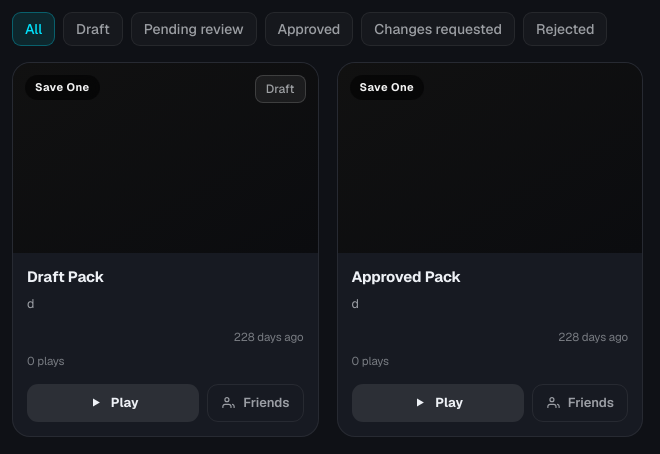
it: AuthorPackList › status filter chips (own profile only) › shows every pack again after switching back to All
Check: the heading "Draft Pack" is shown, box [27, 267, 104, 286]
Click the button "Draft" at (93, 29), box [63, 12, 123, 46]
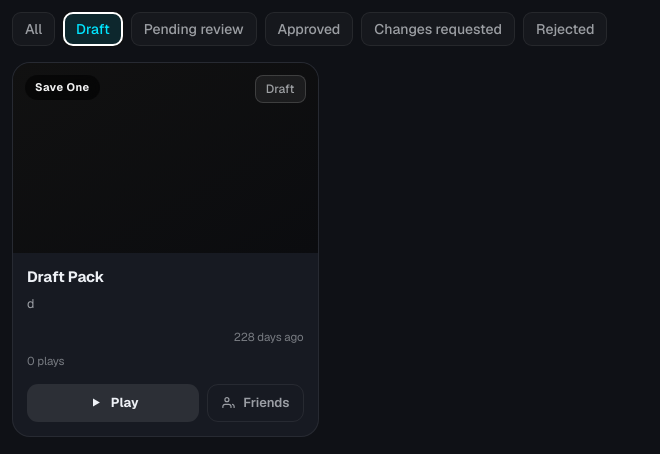
Check: the link "Approved Pack" is gone
Click the button "All" at (34, 29), box [12, 12, 55, 46]
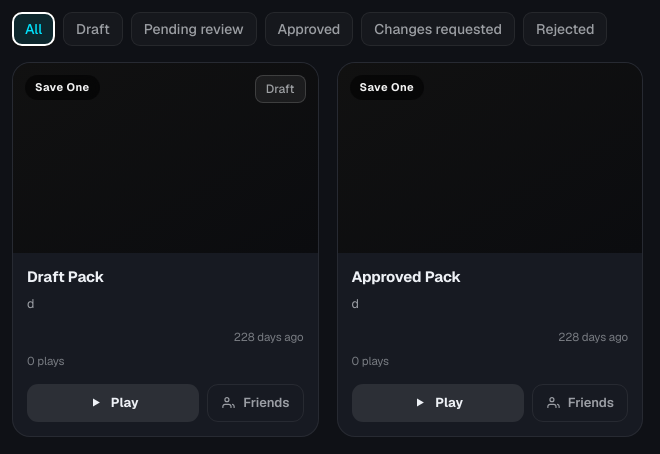
Check: the heading "Draft Pack" is shown, box [27, 267, 104, 286]
Check: the heading "Approved Pack" is shown, box [352, 267, 461, 286]
